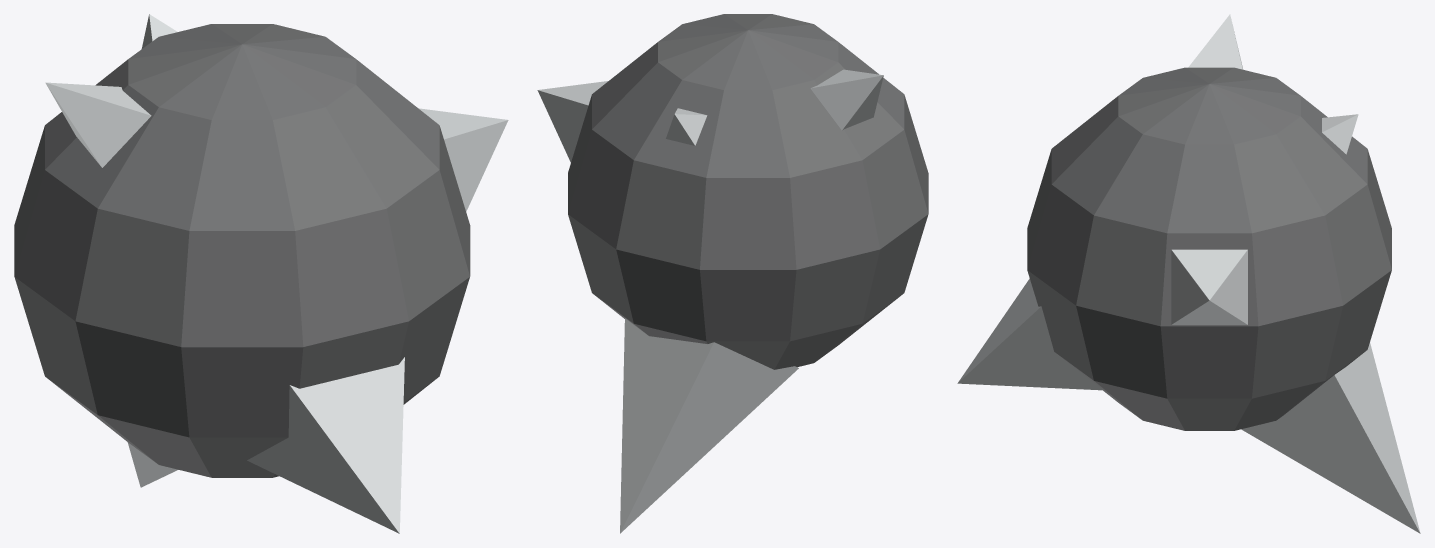
The model's file is AsteroidMetal.obj.
The picture shows the model from 3 angles, left to right: view 1: azimuth 30°, elevation 25°; view 2: azimuth 150°, elevation 25°; view 3: azimuth 270°, elevation 25°; orthographic projection. The views are drawn at different scales.
Parts seen in each view (by area): view 1: AsteroidBody, MetalFrag3, MetalFrag5, MetalFrag2, MetalFrag4; view 2: AsteroidBody, MetalFrag4, MetalFrag5, MetalFrag2, MetalFrag1; view 3: AsteroidBody, MetalFrag4, MetalFrag3, MetalFrag2, MetalFrag5, MetalFrag1.
Boxes of the visible parts, x1=… form: AsteroidBody: x1=14, y1=24, x2=470, y2=477; MetalFrag3: x1=247, y1=357, x2=404, y2=533; MetalFrag5: x1=45, y1=82, x2=151, y2=167; MetalFrag2: x1=419, y1=108, x2=508, y2=211; MetalFrag4: x1=127, y1=442, x2=178, y2=487; AsteroidBody: x1=568, y1=14, x2=928, y2=369; MetalFrag4: x1=620, y1=318, x2=798, y2=533; MetalFrag5: x1=810, y1=69, x2=883, y2=130; MetalFrag2: x1=537, y1=81, x2=608, y2=162; MetalFrag1: x1=666, y1=108, x2=707, y2=145; AsteroidBody: x1=1027, y1=67, x2=1391, y2=430; MetalFrag4: x1=1241, y1=343, x2=1420, y2=533; MetalFrag3: x1=957, y1=278, x2=1103, y2=390; MetalFrag2: x1=1171, y1=249, x2=1247, y2=324; MetalFrag5: x1=1188, y1=14, x2=1242, y2=69; MetalFrag1: x1=1322, y1=114, x2=1358, y2=154.
Bounding box in the file's own units: 0.2937 × 0.3313 × 0.3174.
Materials: 6 (6 with a texture image).
